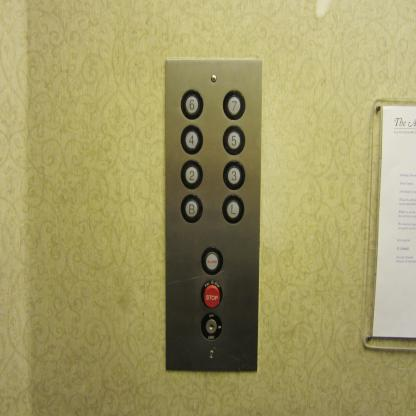2: (178, 157, 205, 191)
3: (220, 158, 247, 192)
4: (178, 122, 205, 156)
5: (220, 123, 247, 156)
6: (179, 87, 205, 121)
7: (220, 88, 247, 122)
B: (178, 192, 205, 226)
L: (219, 193, 246, 226)
keyhole: (198, 310, 223, 343)
text_alarm bell: (199, 244, 224, 276)
text_stop: (199, 278, 225, 311)
